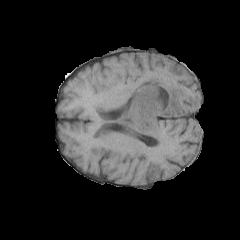glioma: (112, 76, 186, 144)
